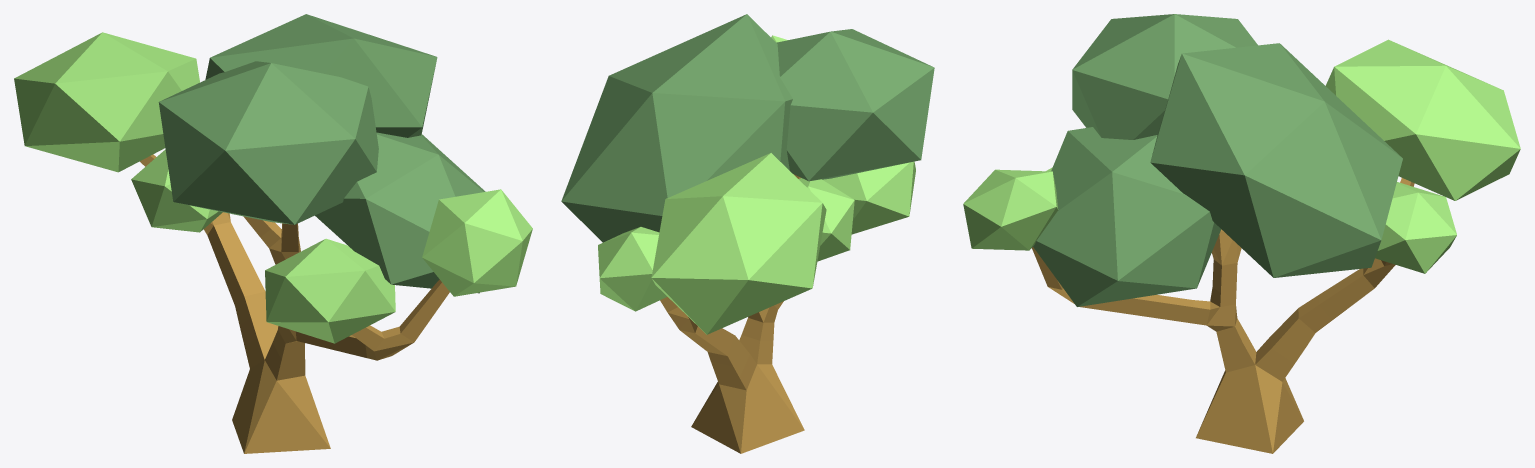
The picture shows the model from 3 angles, left to right: view 1: azimuth 30°, elevation 25°; view 2: azimuth 150°, elevation 25°; view 3: azimuth 270°, elevation 25°; orthographic projection. The views are drawn at different scales.
Visible parts, largest first — view 1: Icosphere.003, Icosphere.001, Cube, Icosphere.007, Icosphere.006, Icosphere.004, Icosphere.005, Icosphere.002; view 2: Icosphere.006, Icosphere.001, Icosphere.003, Cube, Icosphere, Icosphere.004, Icosphere.002; view 3: Icosphere.006, Icosphere.007, Icosphere.001, Cube, Icosphere.003, Icosphere.005, Icosphere.
Part boxes in pixels (<box>): Icosphere.003: <box>158,61,378,224</box>; Icosphere.001: <box>14,32,199,172</box>; Cube: <box>140,154,449,453</box>; Icosphere.007: <box>315,132,485,293</box>; Icosphere.006: <box>205,14,437,137</box>; Icosphere.004: <box>265,238,395,343</box>; Icosphere.005: <box>422,189,532,296</box>; Icosphere.002: <box>131,149,222,232</box>; Icosphere.006: <box>561,14,792,242</box>; Icosphere.001: <box>651,153,826,334</box>; Icosphere.003: <box>776,29,934,181</box>; Cube: <box>660,174,804,453</box>; Icosphere: <box>598,227,667,311</box>; Icosphere.004: <box>822,161,915,234</box>; Icosphere.002: <box>798,178,854,261</box>; Icosphere.006: <box>1150,43,1402,277</box>; Icosphere.007: <box>1033,127,1221,306</box>; Icosphere.001: <box>1325,39,1520,200</box>; Cube: <box>1032,178,1414,453</box>; Icosphere.003: <box>1072,14,1257,139</box>; Icosphere.005: <box>963,169,1058,250</box>; Icosphere: <box>1375,182,1456,273</box>.
Size of the model in its own units: 653 by 804 by 1030.
